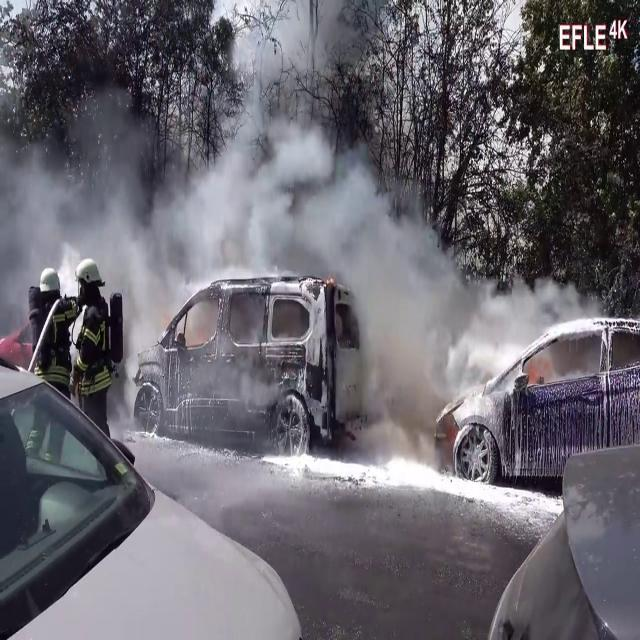Smoke: (0, 61, 485, 463)
